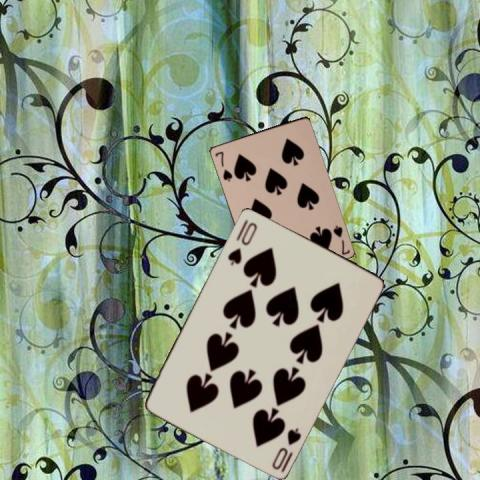10s: (225, 219, 258, 266), (269, 424, 302, 471)
7s: (212, 148, 233, 182), (330, 222, 351, 256)
